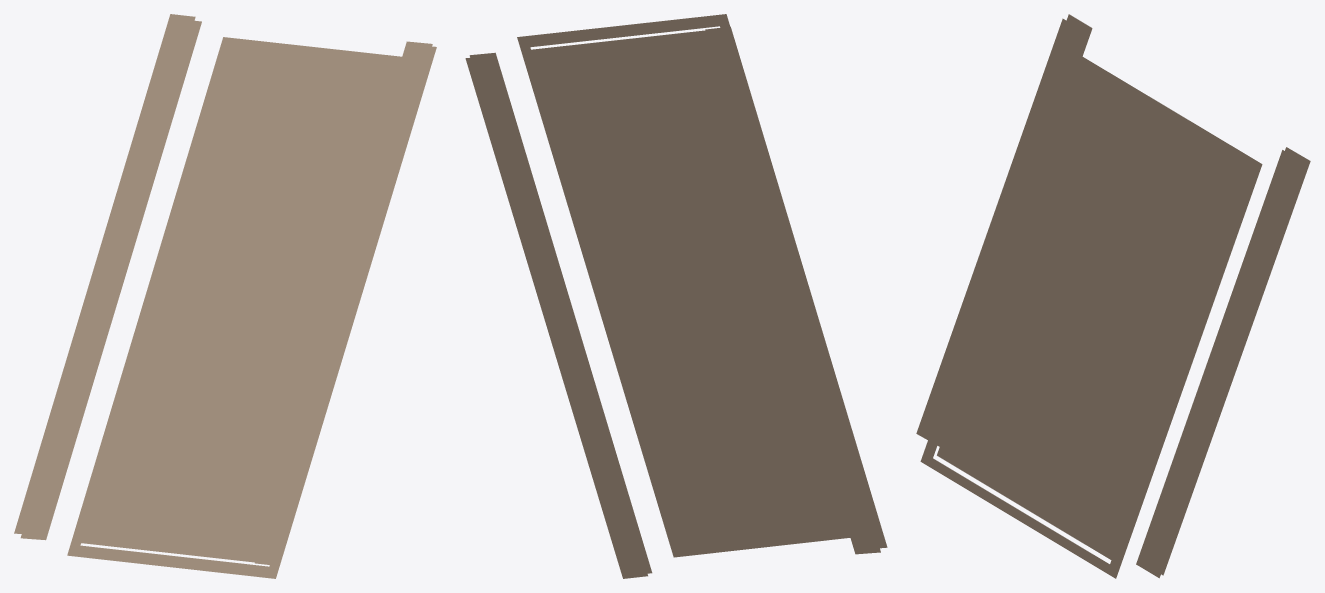
3 views of the same model, side by side, from view 1: azimuth 30°, elevation 25°; view 2: azimuth 150°, elevation 25°; view 3: azimuth 330°, elevation 25° (orthographic). The views are drawn at different scales.
Visible parts, largest first — view 1: Building_16, Building_36, Building_10, Building_14, Building_44, Building_26, Building_12, Building_8; view 2: Building_16, Building_34, Building_44, Building_36, Building_10, Building_26, Building_8, Building_12; view 3: Building_16, Building_26, Building_36, Building_14, Building_10, Building_12, Building_8, Building_34.
Boxes of the visible parts, x1,y1,x2,y2 form: Building_16: (81,49,413,563); Building_36: (20,18,201,540); Building_10: (269,60,431,578); Building_14: (67,37,229,555); Building_44: (14,14,195,533); Building_26: (255,44,436,564); Building_12: (67,545,275,578); Building_8: (223,37,431,69); Building_16: (526,30,847,547); Building_34: (465,55,647,578); Building_44: (699,31,880,554); Building_36: (705,26,887,548); Building_10: (517,37,678,556); Building_26: (469,52,652,573); Building_8: (517,14,726,47); Building_12: (674,529,850,557); Building_16: (937,63,1249,559); Building_26: (1136,150,1306,578); Building_36: (916,18,1086,446); Building_14: (920,47,1072,461); Building_10: (1110,164,1262,578); Building_12: (921,458,1115,578); Building_8: (1067,47,1261,167); Building_34: (1161,147,1310,575).
Bounding box in the file's own units: 23.63 × 31.04 × 2.71.
